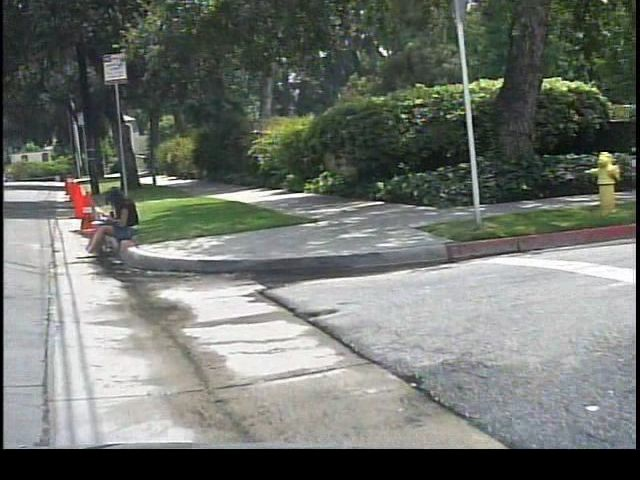person: (76, 184, 148, 260)
